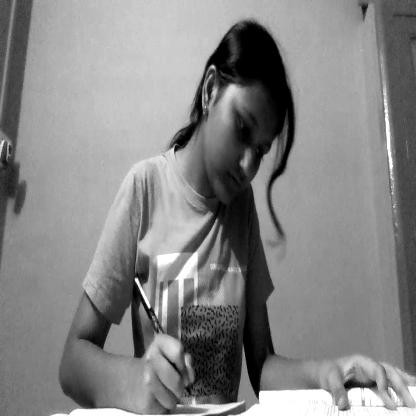Distracted: (201, 61, 286, 210)
